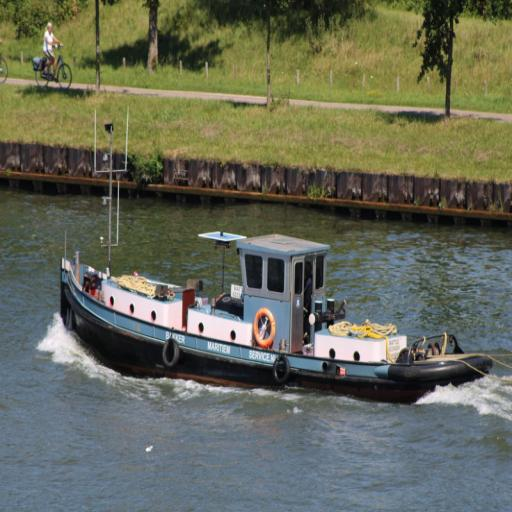tugboat: (58, 201, 496, 414)
